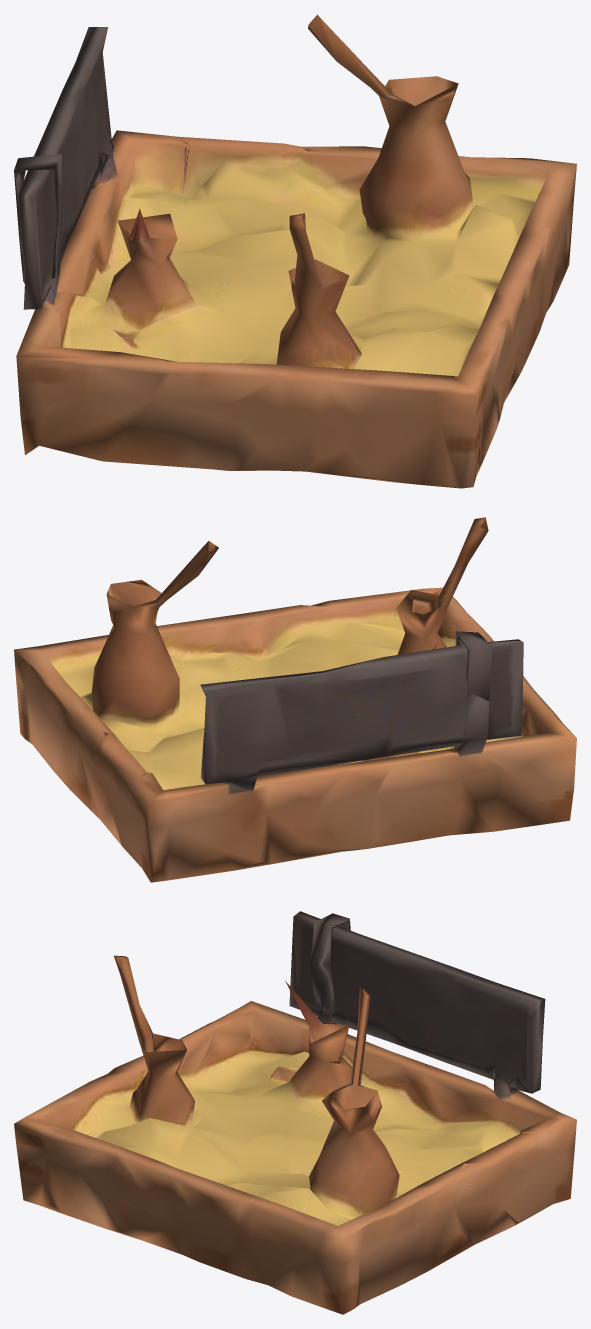
Rendered from coffee.glb.
3 renders of one model, top to bottom at view 1: azimuth 30°, elevation 25°; view 2: azimuth 150°, elevation 25°; view 3: azimuth 270°, elevation 25°, orthographic. The views are drawn at different scales.
Visible parts, largest first — view 1: tripo_node_c7e082ad-5936-4a9e-bd34-7de5bce83daf; view 2: tripo_node_c7e082ad-5936-4a9e-bd34-7de5bce83daf; view 3: tripo_node_c7e082ad-5936-4a9e-bd34-7de5bce83daf.
Boxes of the visible parts, x1,y1,x2,y2 form: tripo_node_c7e082ad-5936-4a9e-bd34-7de5bce83daf: (14, 14, 576, 488); tripo_node_c7e082ad-5936-4a9e-bd34-7de5bce83daf: (14, 517, 576, 882); tripo_node_c7e082ad-5936-4a9e-bd34-7de5bce83daf: (14, 911, 576, 1314).
Bounding box in the file's own units: 0.9985 × 0.4632 × 1.
Materials: 1 (1 with a texture image).
